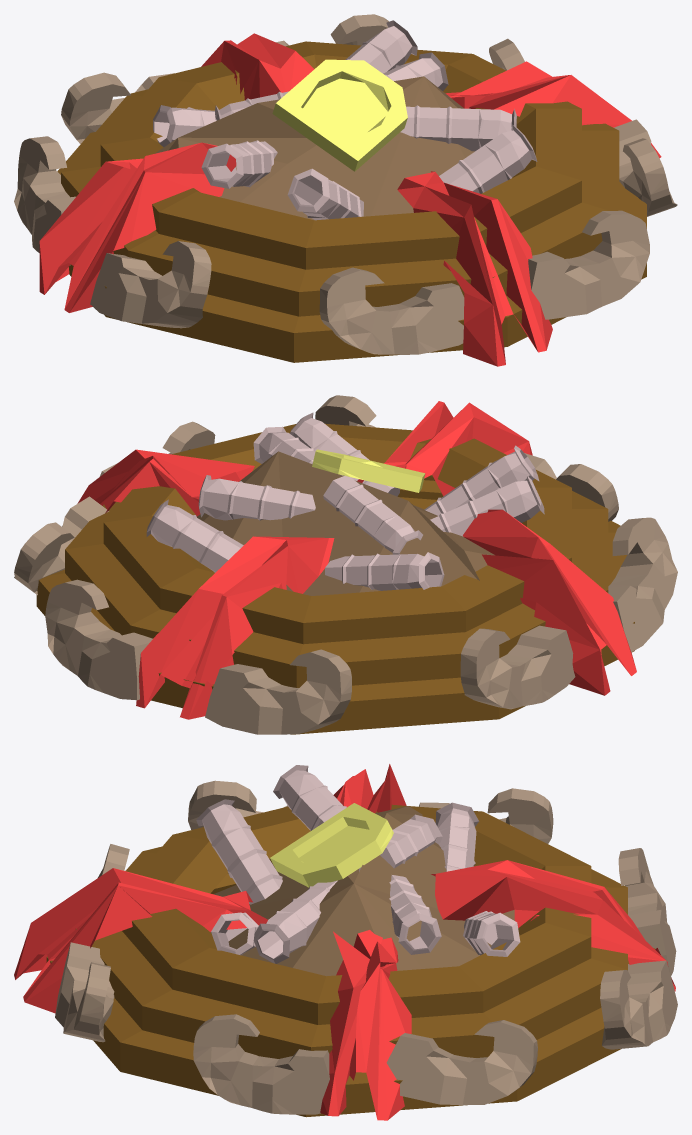
Rendered from torre_español_4.fbx.
3 views of the same model, one above another, from view 1: azimuth 30°, elevation 25°; view 2: azimuth 150°, elevation 25°; view 3: azimuth 270°, elevation 25° (orthographic). The views are drawn at different scales.
Visible parts, largest first — view 1: totem_español_cuarto_daño; view 2: totem_español_cuarto_daño; view 3: totem_español_cuarto_daño.
Boxes of the visible parts, x1,y1,x2,y2 form: totem_español_cuarto_daño: (14, 14, 677, 366); totem_español_cuarto_daño: (14, 395, 677, 734); totem_español_cuarto_daño: (14, 764, 677, 1120).
Bounding box in the file's own units: 15.74 × 4.52 × 15.62.
